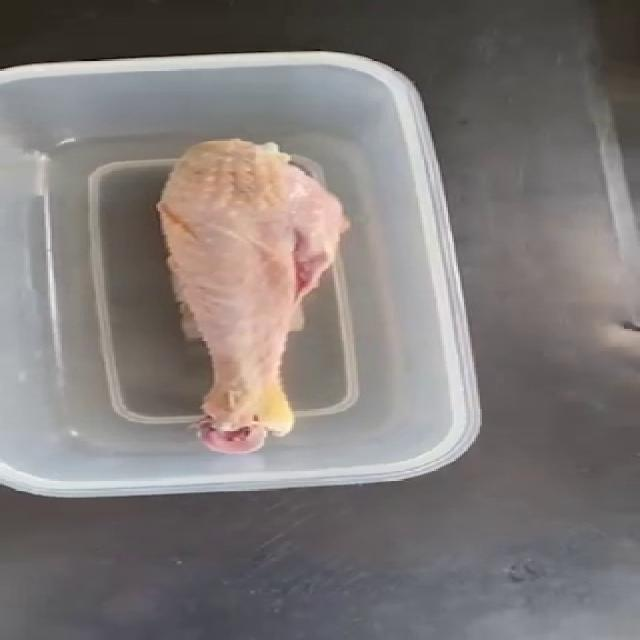chicken: (154, 140, 340, 460)
